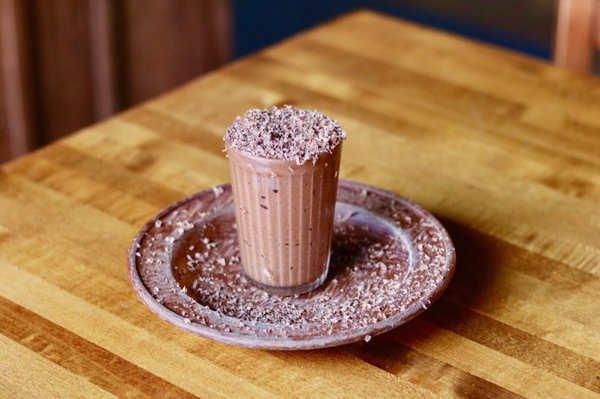curry: (5, 7, 599, 387)
sushi: (223, 104, 345, 290)
